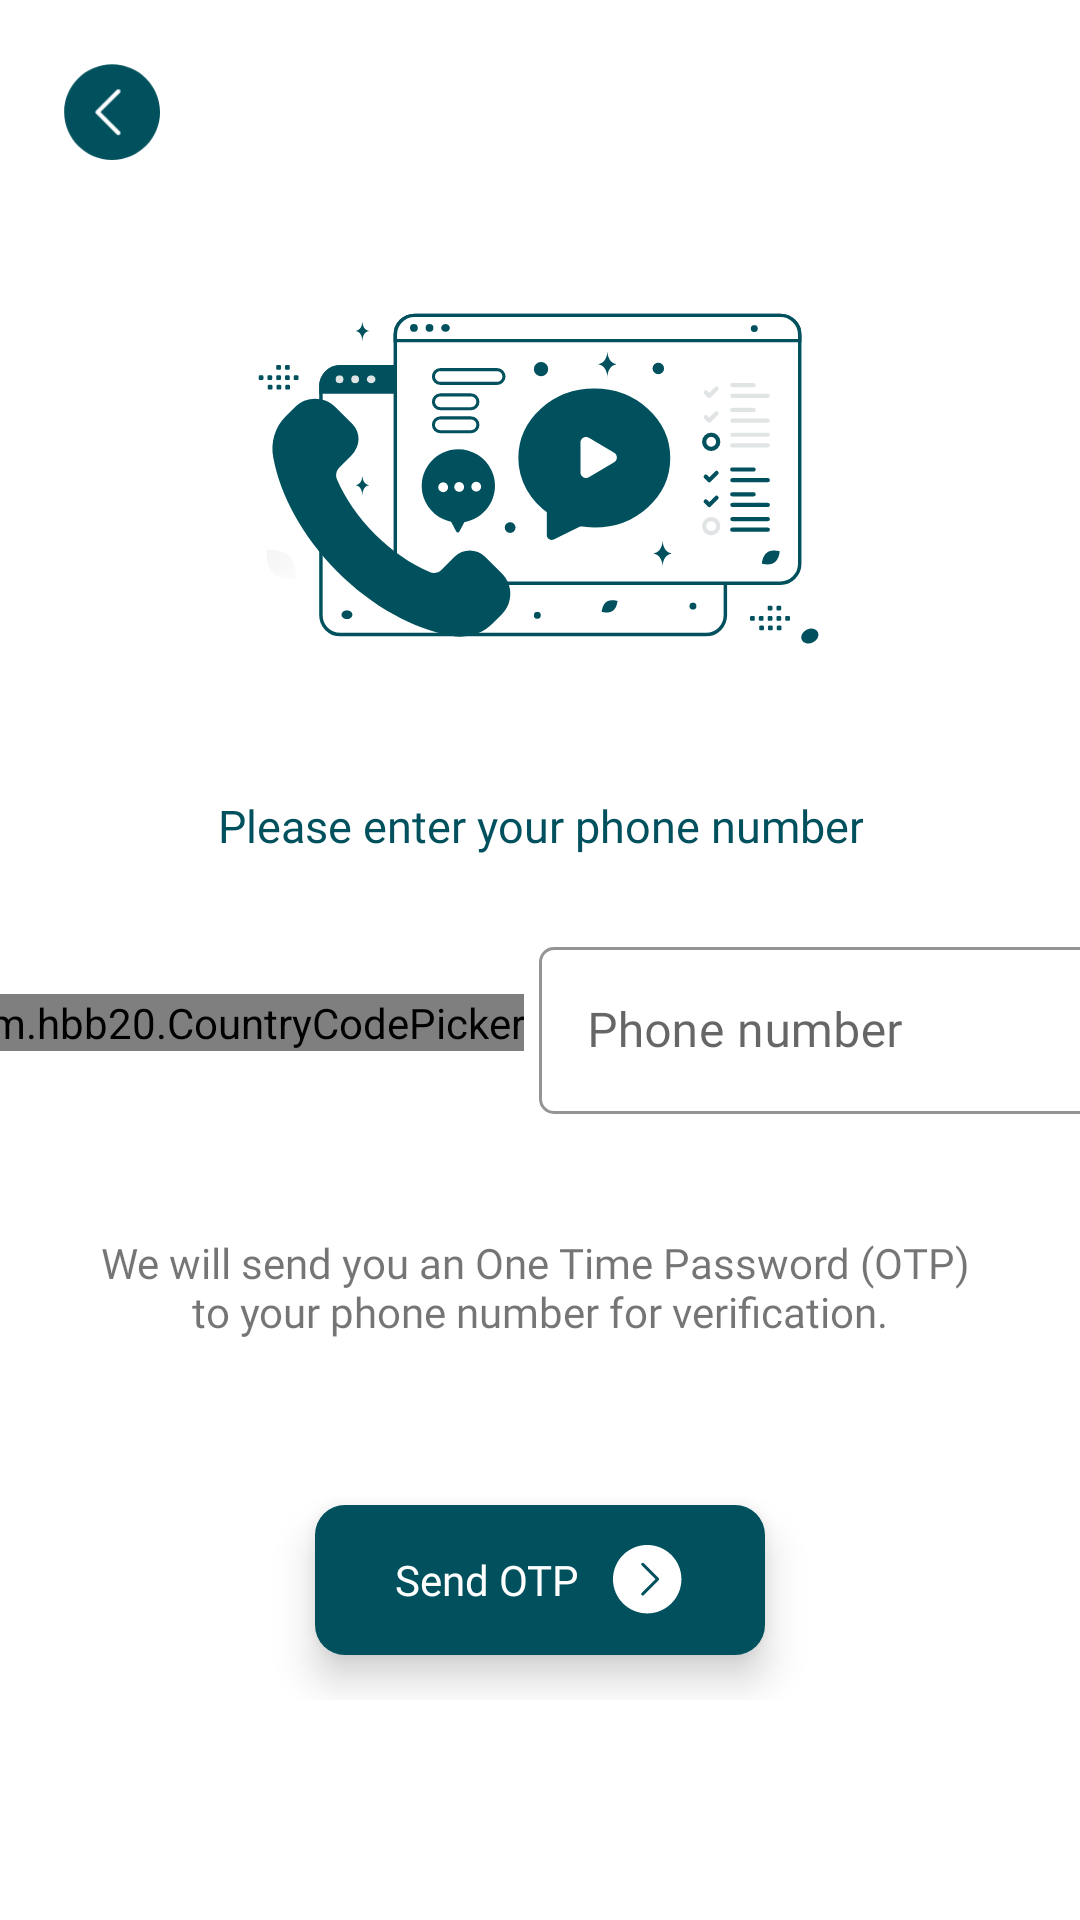

Where to tap for icons on this 1080px x 1920px app screen, as [x,y]:
circle chevron left: [112,112]
circled chevron right: [647,1579]
